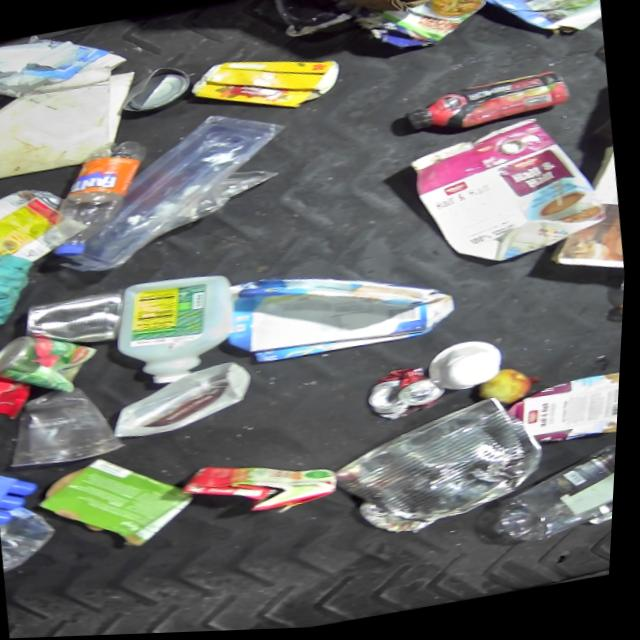can: (327, 394, 557, 546), (0, 324, 108, 406), (0, 179, 93, 273), (24, 289, 133, 356), (367, 364, 458, 428), (116, 64, 197, 118)
milk_jug: (107, 359, 268, 445), (0, 24, 135, 109)
non_white_jug: (111, 268, 246, 392)
plastic_bottle: (37, 136, 164, 262), (485, 444, 621, 556), (606, 275, 628, 331)
